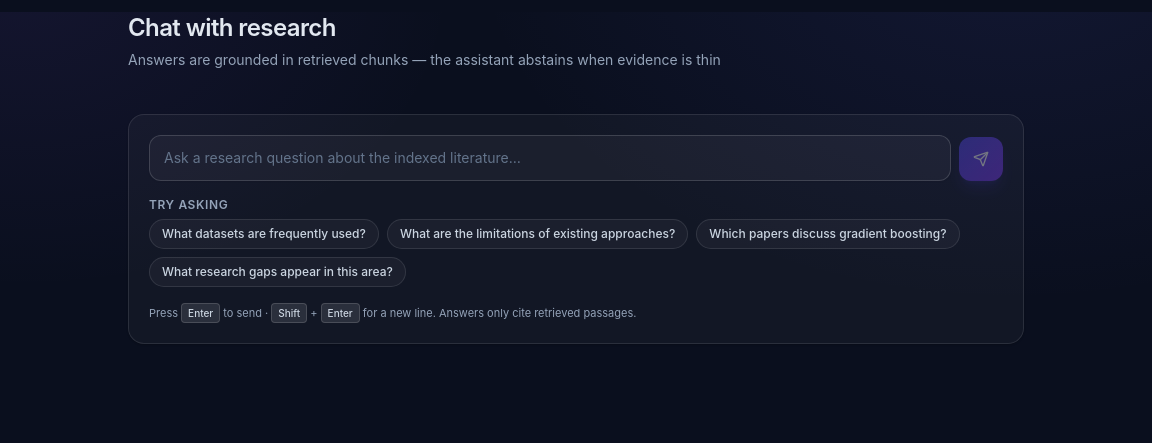
grounded chat › shows the abstention notice when the model cannot ground an answer
The image size is (1152, 443).
Type "zzz qqq" into the text box with placeholder "Ask a research question about the indexed literature…" at {"x": 550, "y": 158}, box [149,135,951,181]
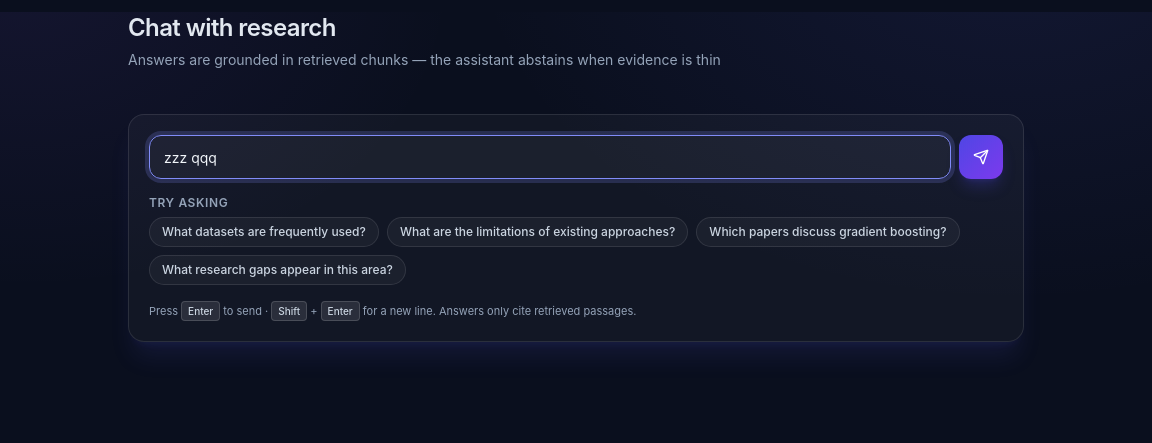
Click the button named "Send" at {"x": 981, "y": 157}, box [959,135,1003,179]
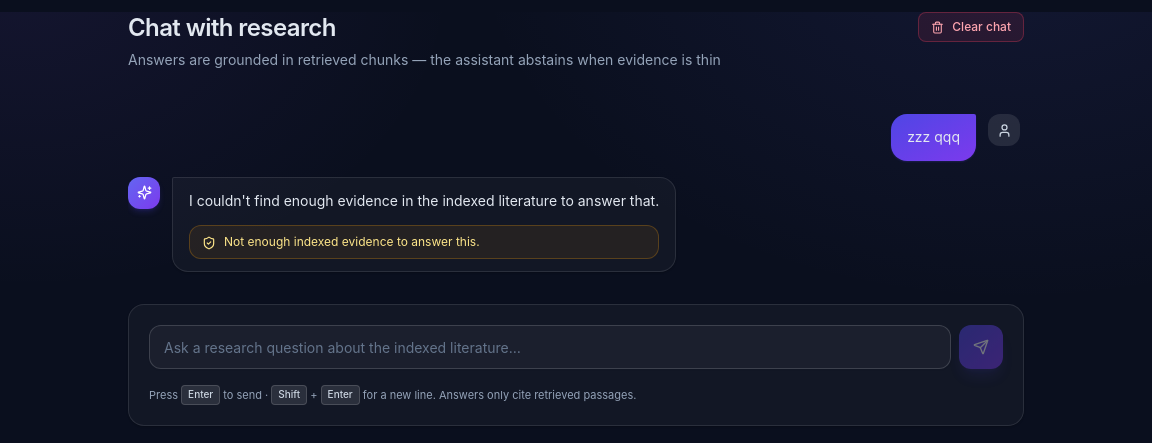
Check: the text "Not enough indexed evidence to answer this." is shown, box [189,224,659,258]
